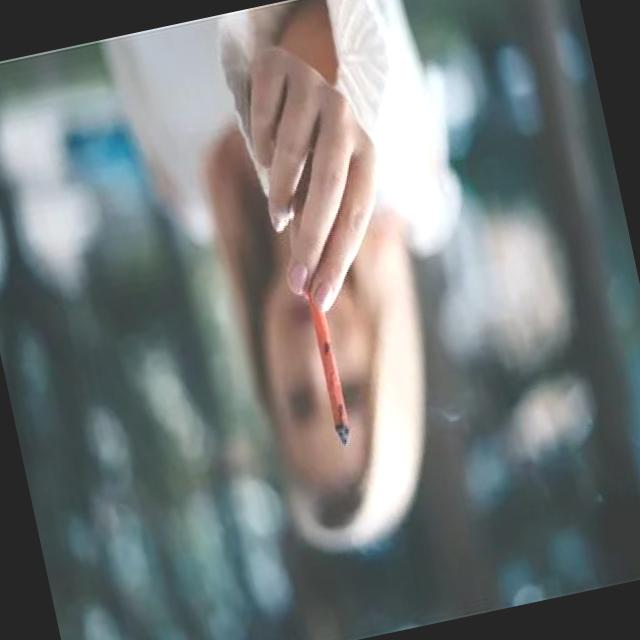smoke: (296, 268, 358, 451)
